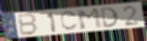1: (46, 12, 58, 34)
2: (122, 5, 140, 27)
B: (17, 13, 39, 37)
C: (59, 10, 79, 32)
D: (99, 6, 121, 29)
M: (75, 7, 105, 31)
